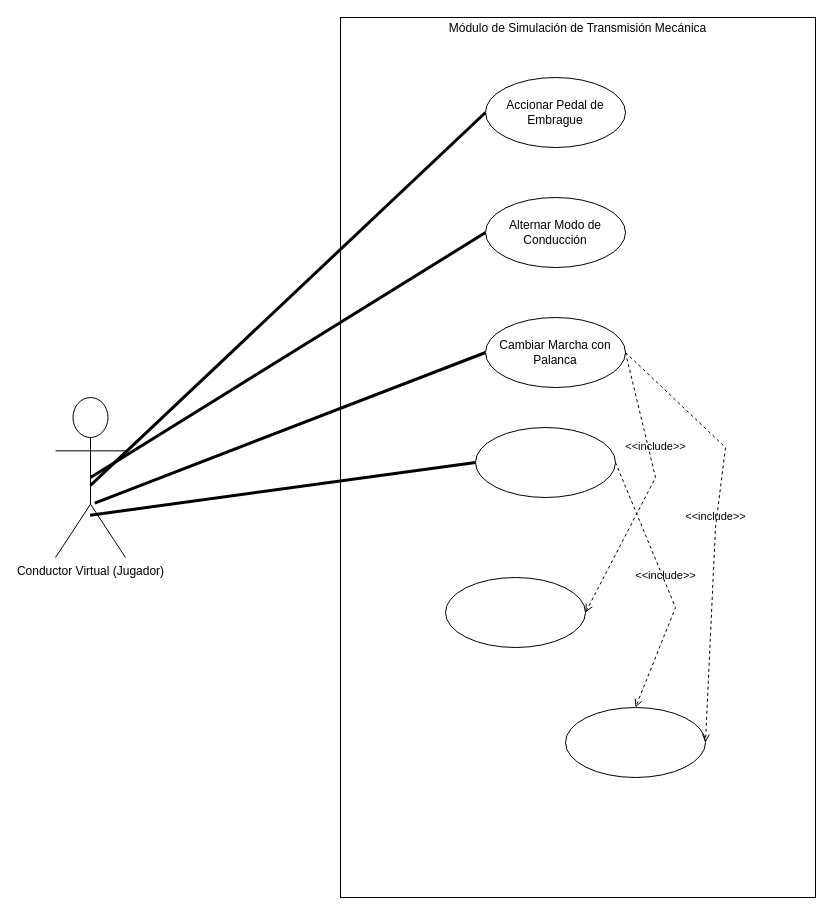
The diagram is 833 pixels wide and 915 high, and some of its shapes have lost their labels. Each missing label, with the box of its shape:
Acoplar / Desacoplar Engranaje: (564, 706, 706, 778)
Cambiar Marcha Secuencial: (474, 426, 616, 498)
Verificar Estado del Embrague: (444, 576, 586, 648)
